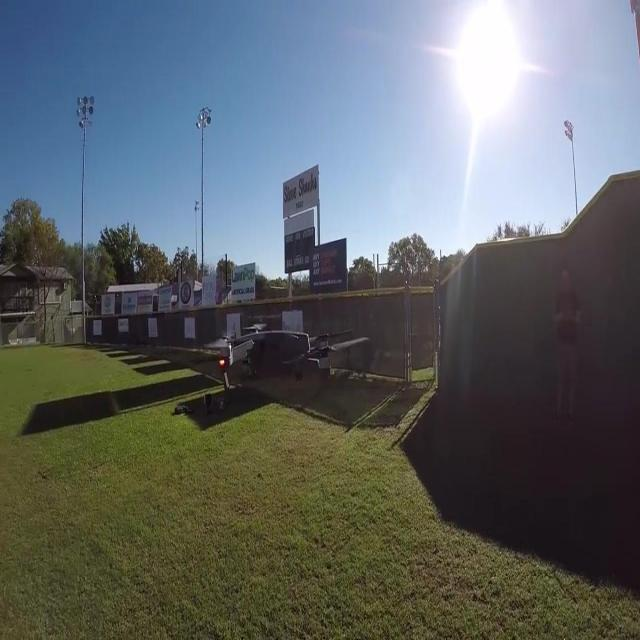drone: (198, 316, 372, 417)
